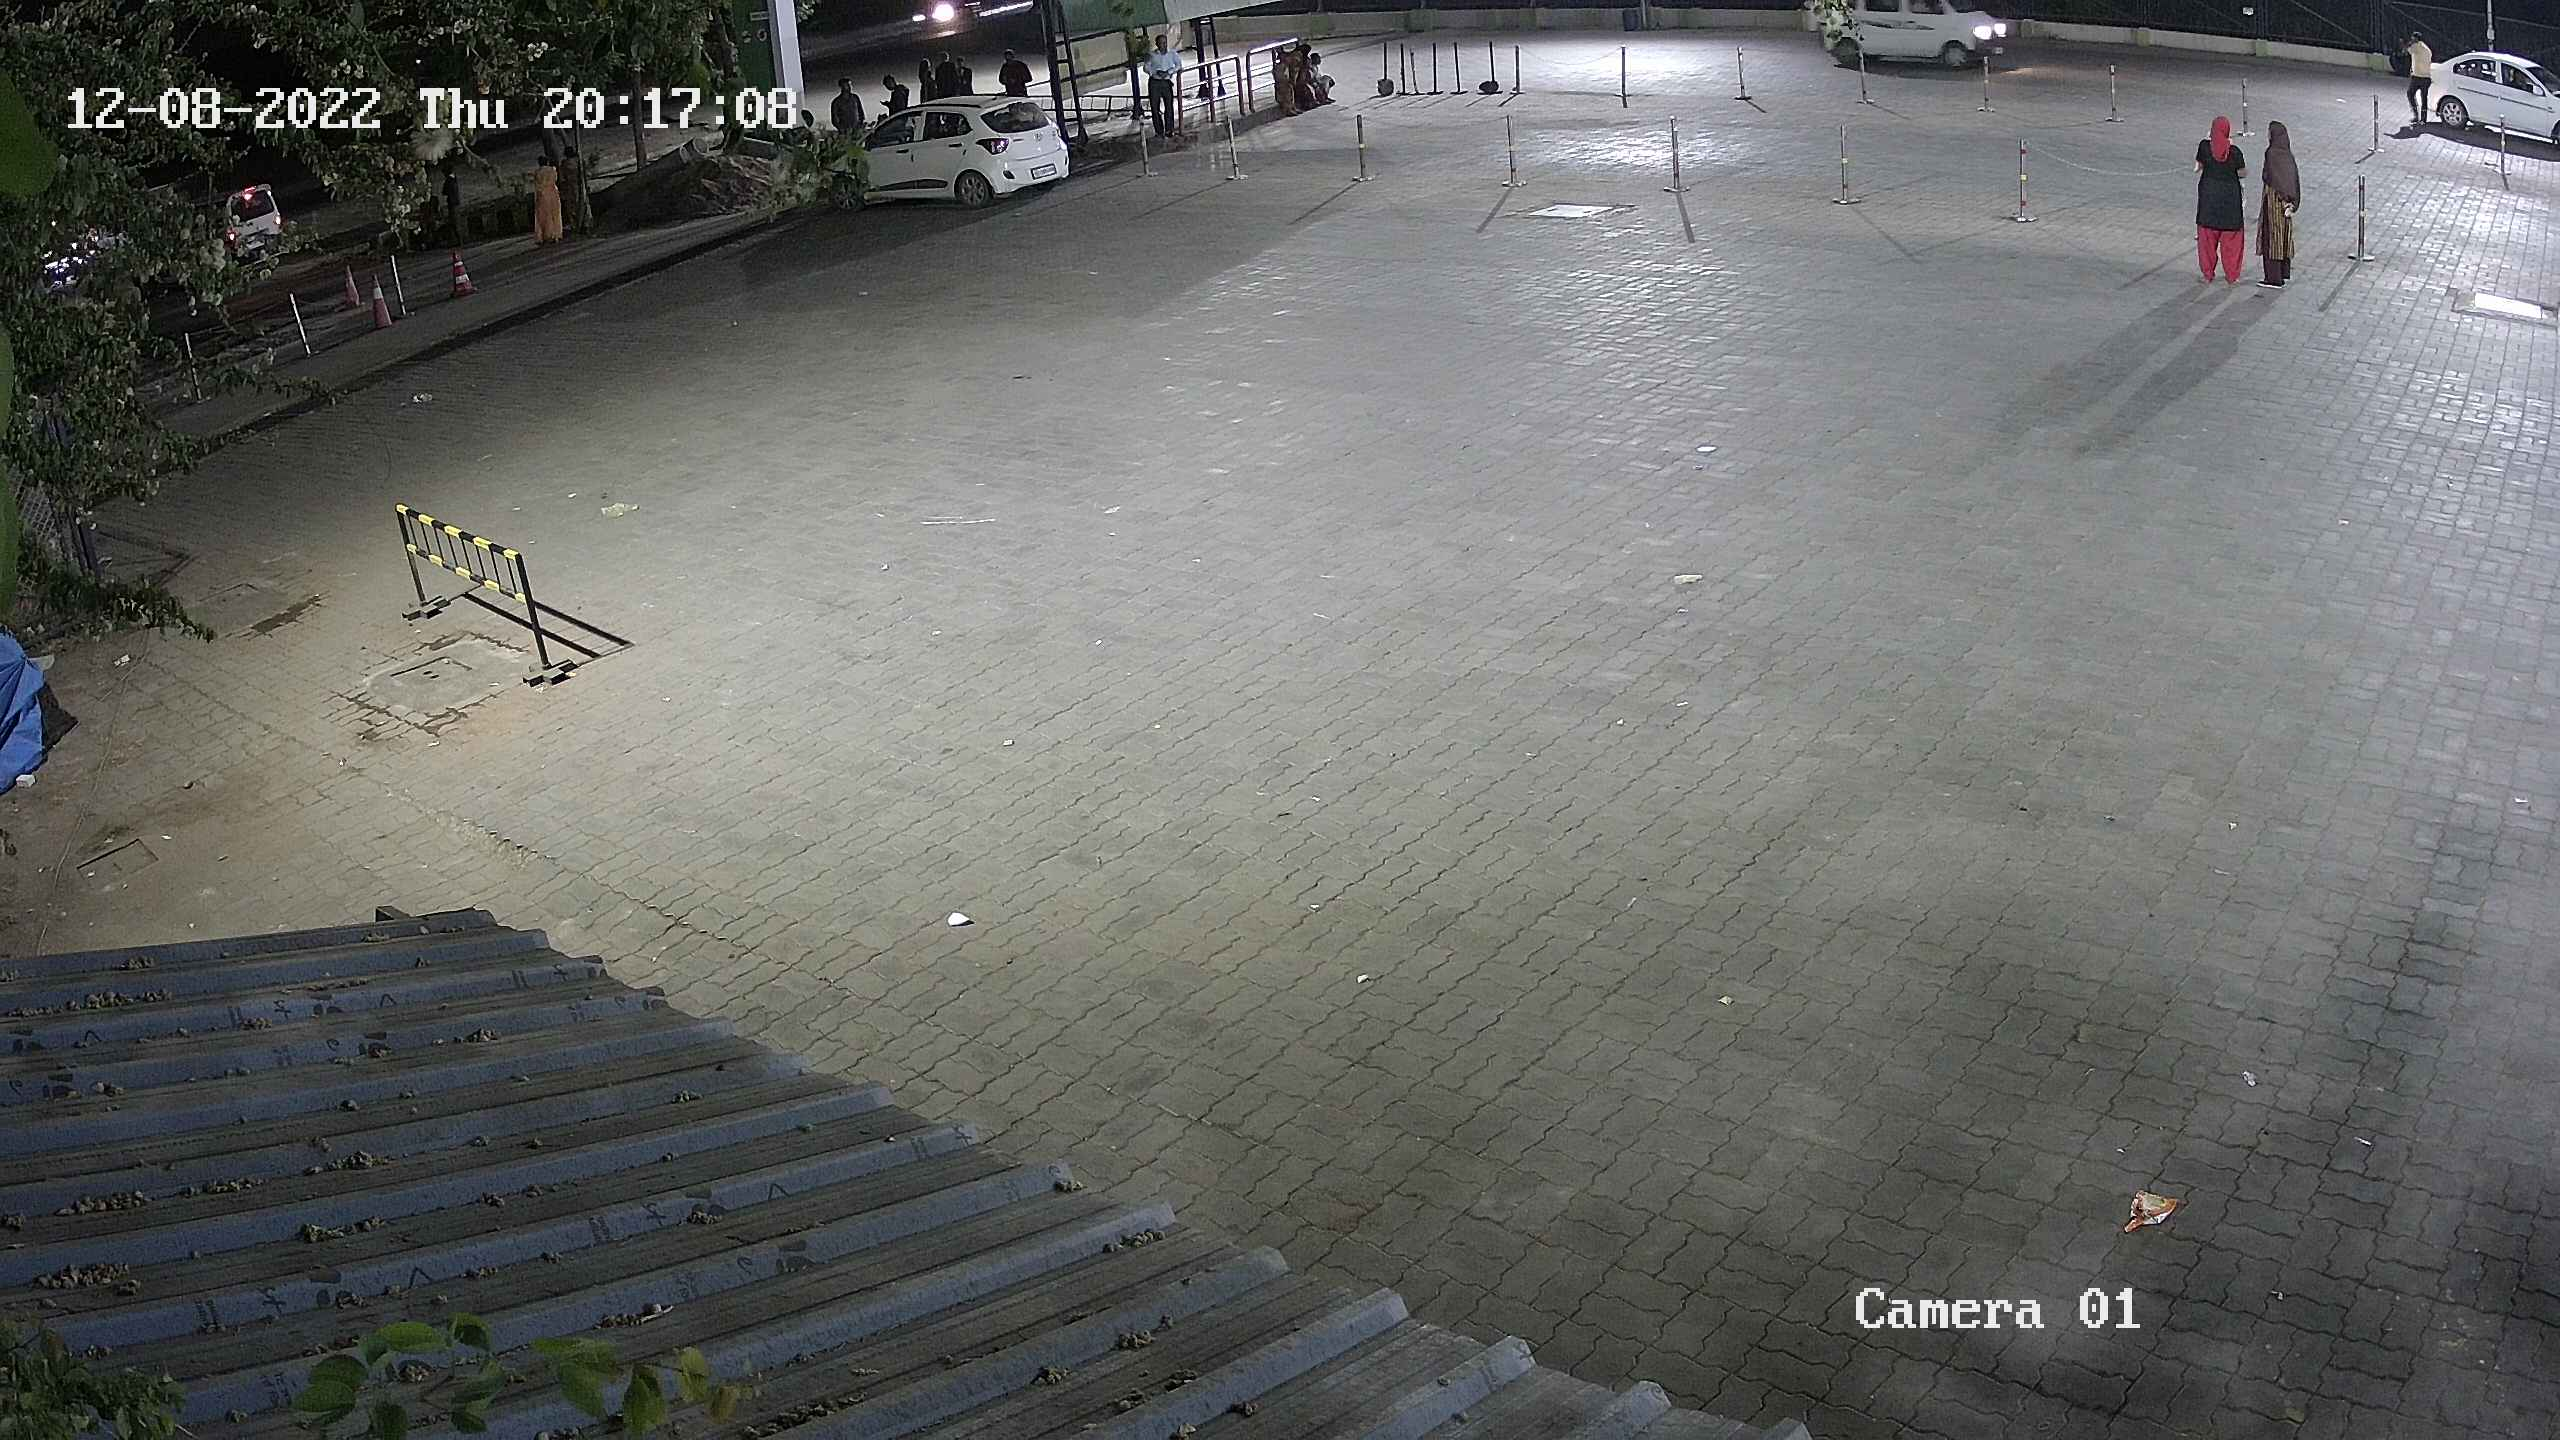Car: (844, 76, 1088, 222), (2400, 32, 2560, 169), (1802, 0, 2015, 86), (183, 164, 313, 288)
